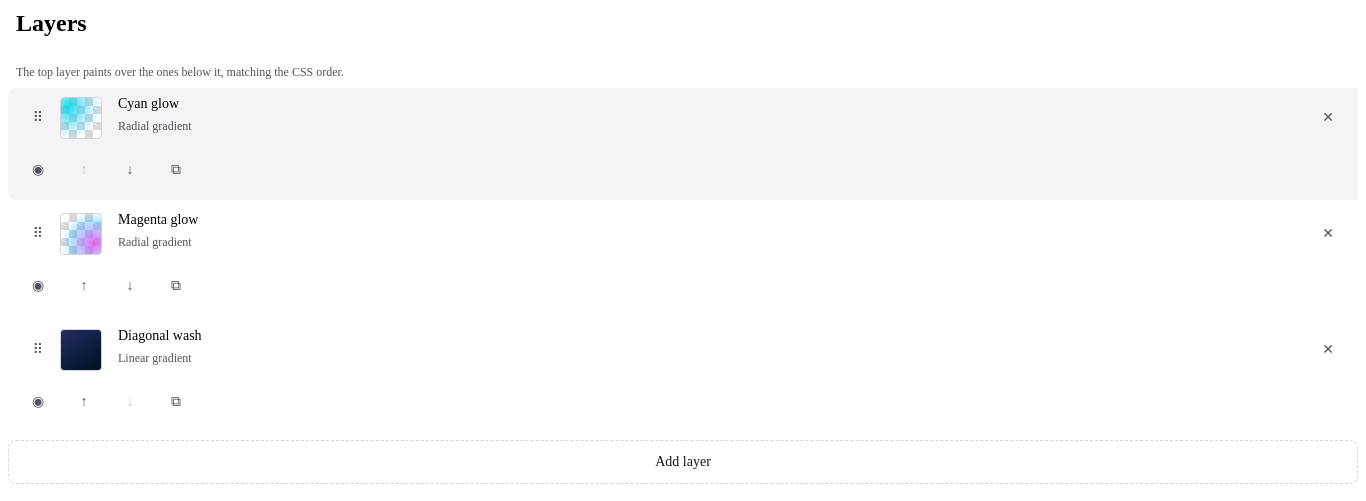
Scenario: LayerList › toggles a layer between hidden and visible
Step 1. Click the button named "Hide Cyan glow" → (38, 170), box [16,148,60,192]
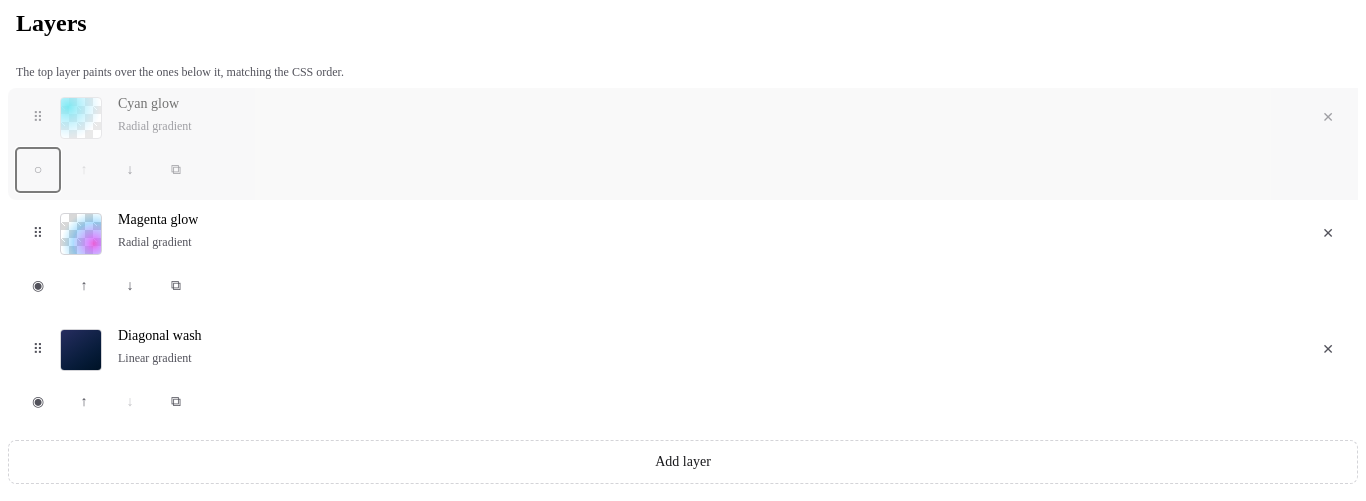
Check: the button named "Show Cyan glow" is shown, box [16,148,60,192]
